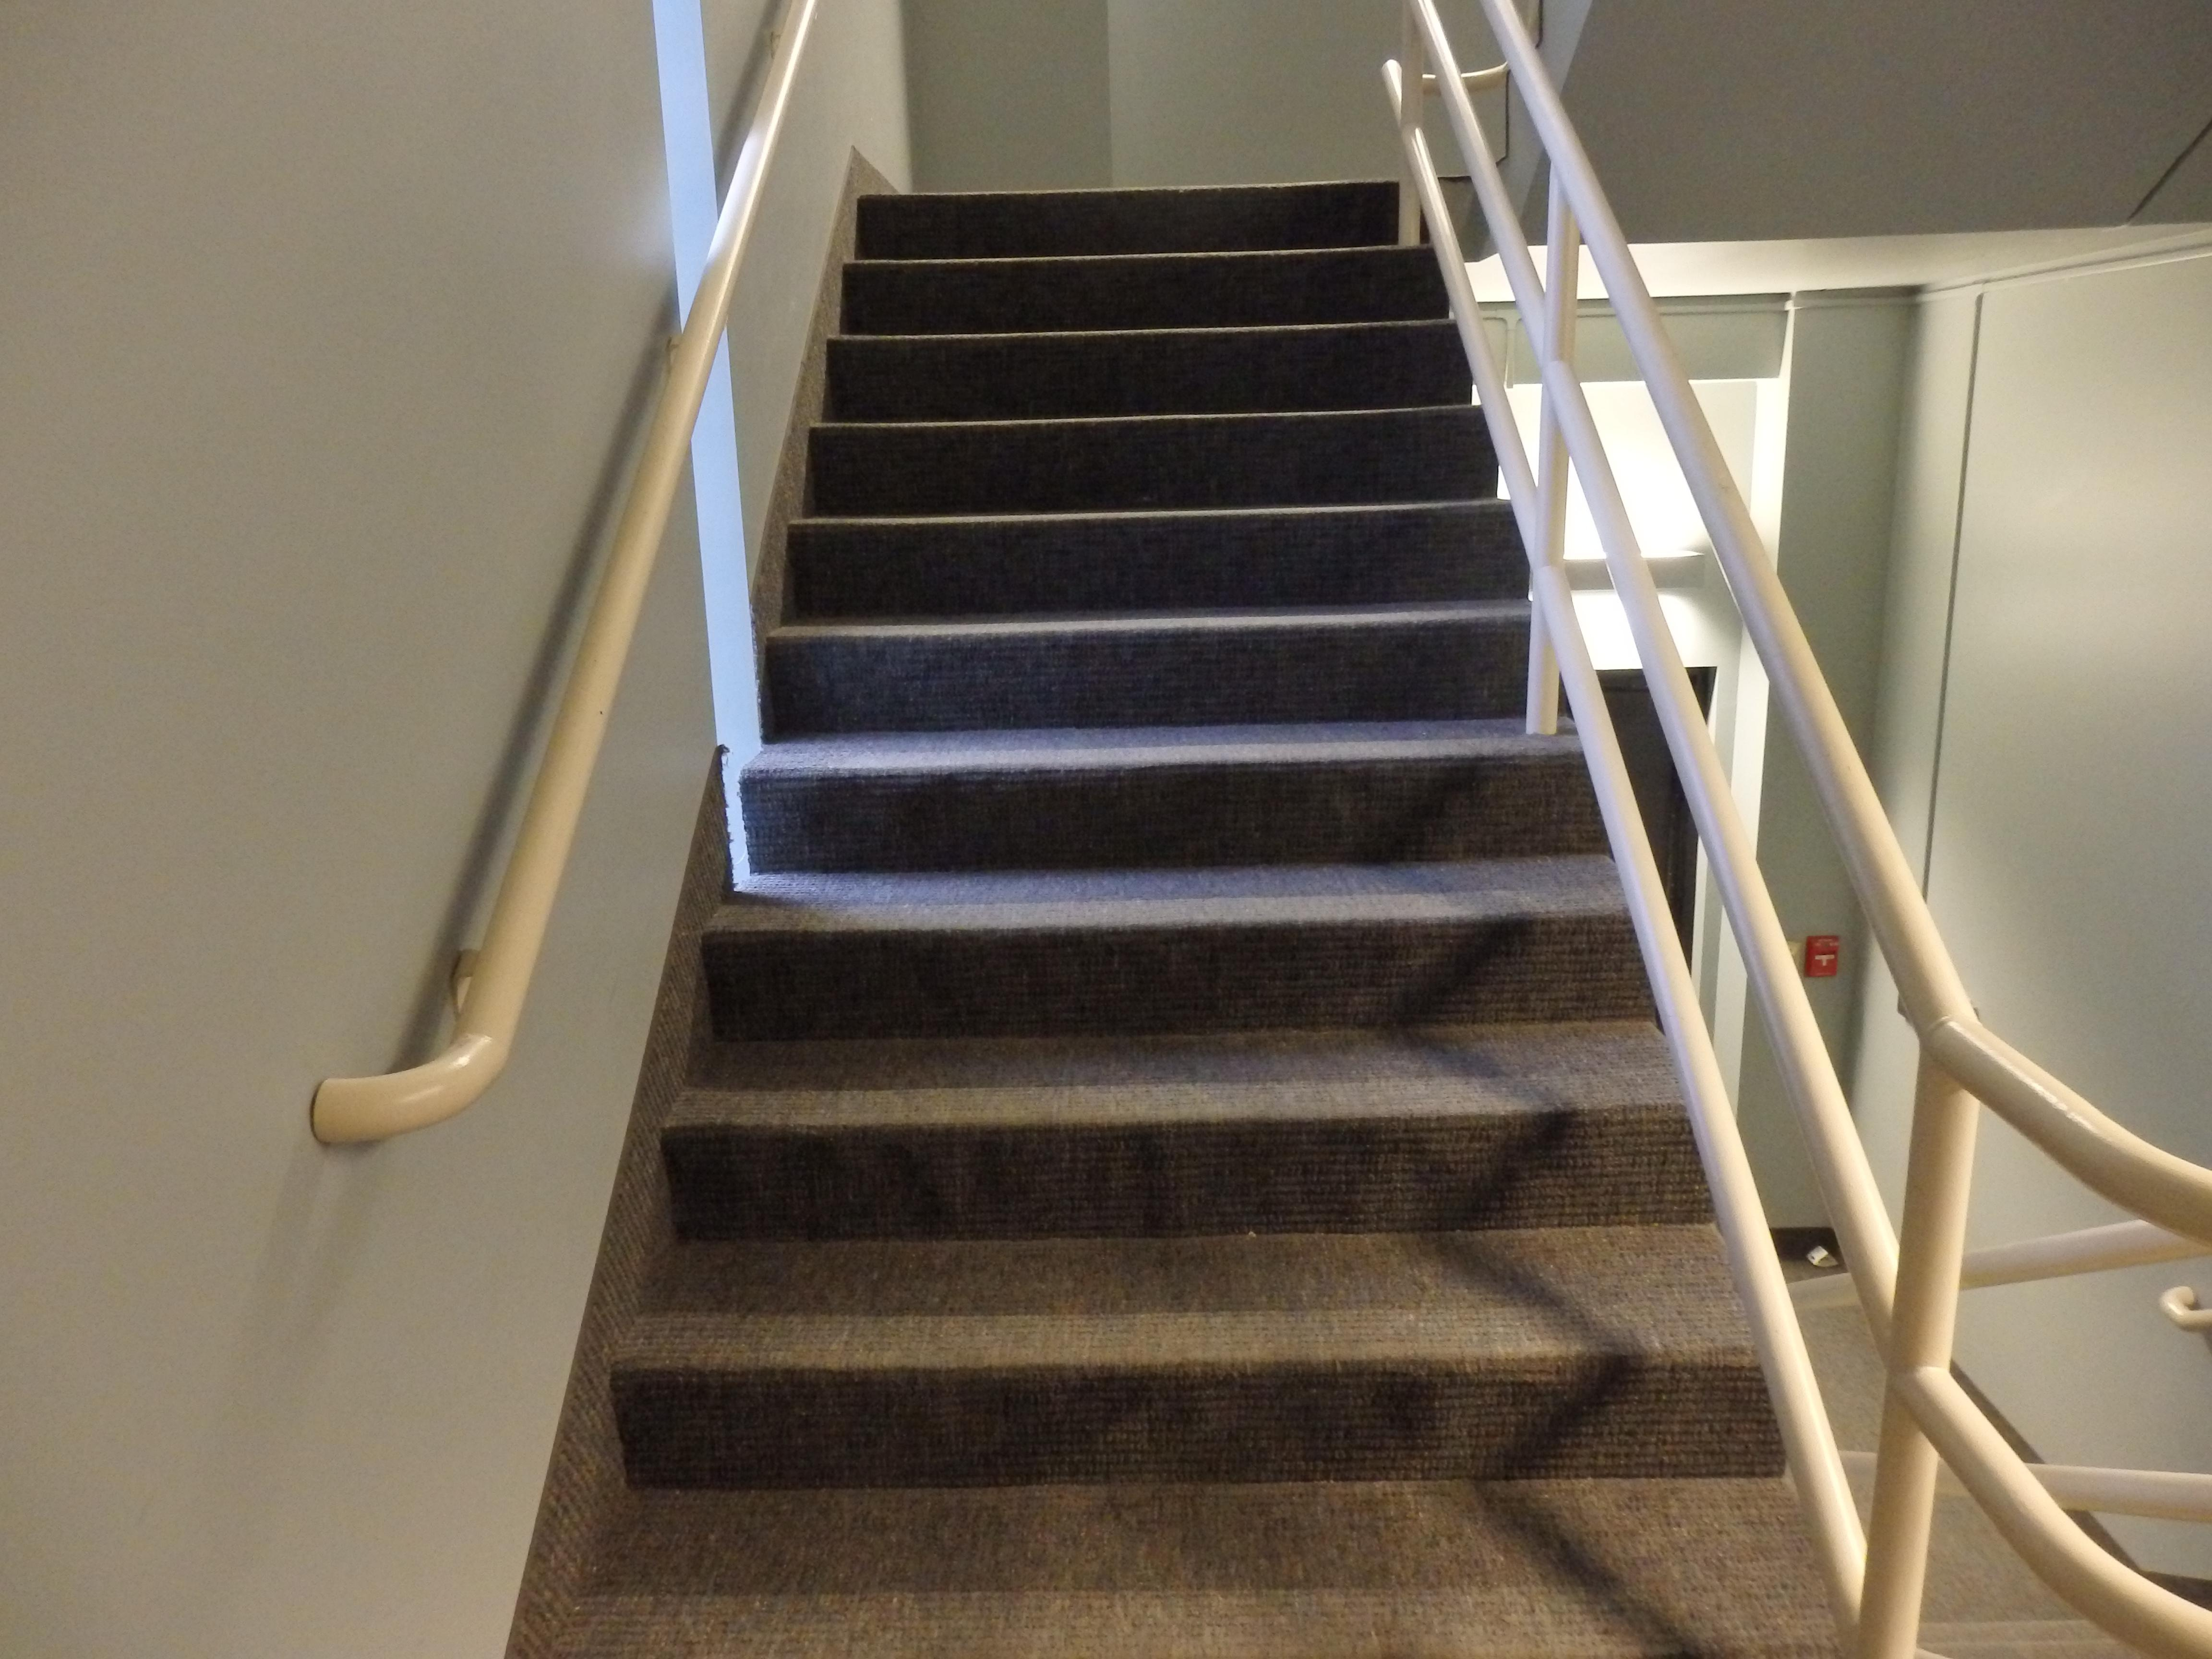stairs_up: (747, 171, 1571, 1605)
